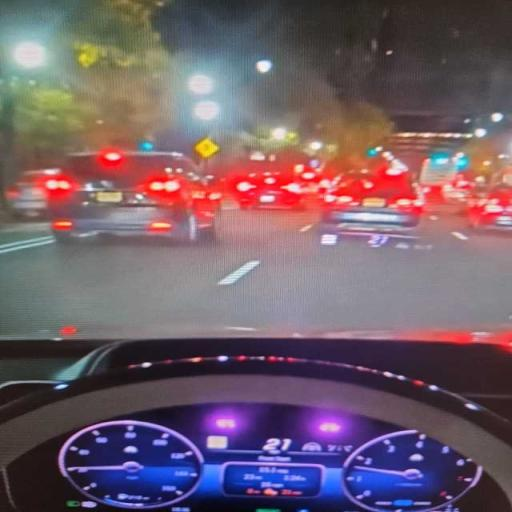car: (0, 333, 511, 511), (45, 150, 219, 242), (320, 167, 423, 233), (232, 168, 305, 210), (7, 169, 61, 218), (468, 182, 511, 230), (442, 173, 474, 204)
lane: (0, 210, 511, 337), (0, 211, 310, 336), (216, 216, 511, 333)
